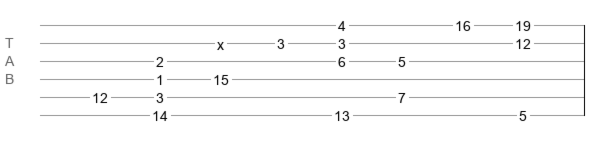1: (156, 72, 164, 82)
12: (92, 90, 108, 100), (515, 36, 531, 46)
13: (334, 108, 350, 118)
14: (152, 108, 168, 118)
15: (213, 72, 229, 82)
16: (455, 18, 471, 28)
19: (515, 18, 531, 28)
2: (156, 54, 164, 64)
3: (156, 90, 164, 100), (277, 36, 285, 46), (338, 36, 346, 46)
4: (338, 18, 346, 28)
5: (398, 54, 406, 64), (519, 108, 527, 118)
6: (338, 54, 346, 64)
7: (398, 90, 406, 100)
x: (217, 37, 224, 45)
